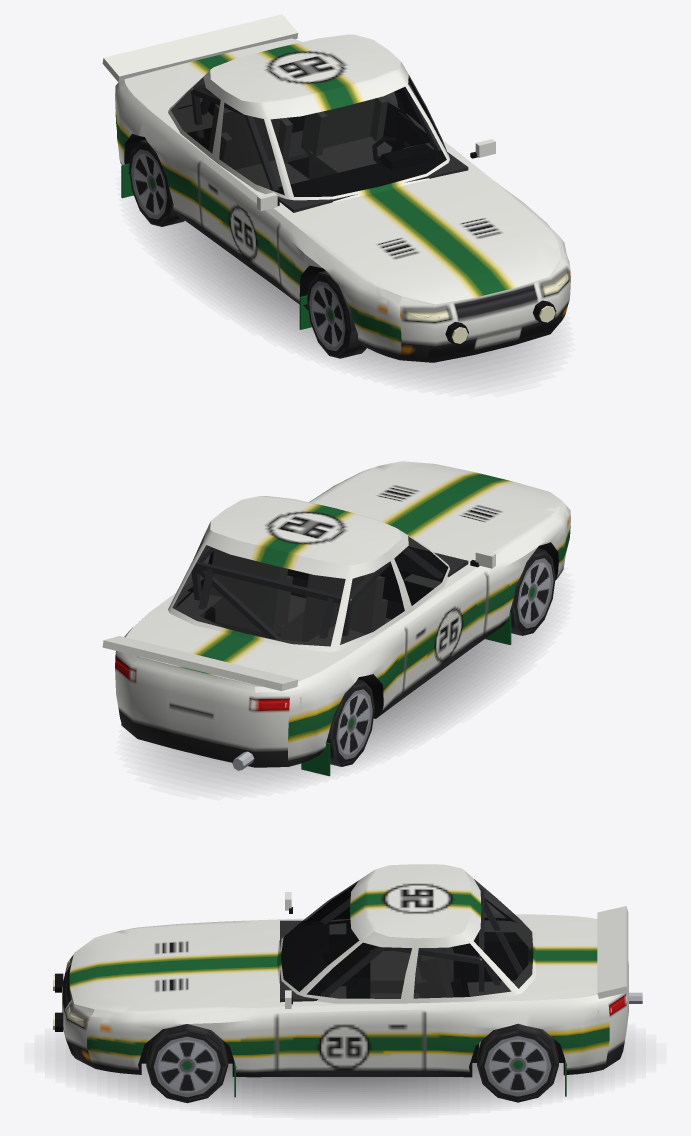
The model's file is braseiro.glb.
3 renders of one model, top to bottom at view 1: azimuth 30°, elevation 25°; view 2: azimuth 150°, elevation 25°; view 3: azimuth 270°, elevation 25°, orthographic. The views are drawn at different scales.
Visible parts, largest first — view 1: Carroceria, Capo_malha, Interior, Porta_D_malha, Sombra, Tampa_malha, Roda_DD, Roda_TD, Porta_E_malha; view 2: Carroceria, Interior, Capo_malha, Sombra, Porta_D_malha, Tampa_malha, Roda_TD, Roda_DD; view 3: Carroceria, Porta_E_malha, Capo_malha, Interior, Sombra, Tampa_malha, Roda_DE, Roda_TE, Porta_D_malha.
Boxes of the visible parts, box(x1,y1,x2,y2) form: Carroceria: box(115, 34, 570, 362); Capo_malha: box(300, 178, 566, 304); Interior: box(179, 83, 468, 212); Porta_D_malha: box(198, 87, 289, 283); Sombra: box(147, 219, 545, 381); Tampa_malha: box(102, 14, 301, 99); Roda_DD: box(307, 271, 366, 358); Roda_TD: box(128, 139, 184, 226); Porta_E_malha: box(398, 62, 495, 160); Carroceria: box(115, 464, 570, 776); Interior: box(177, 546, 468, 641); Capo_malha: box(315, 461, 566, 556); Sombra: box(145, 622, 543, 784); Porta_D_malha: box(384, 530, 495, 690); Tampa_malha: box(102, 622, 324, 692); Roda_TD: box(326, 679, 374, 766); Roda_DD: box(510, 548, 555, 635); Carroceria: box(53, 864, 642, 1097); Porta_E_malha: box(277, 931, 424, 1069); Capo_malha: box(75, 922, 260, 1017); Interior: box(149, 888, 527, 1047); Sombra: box(65, 1042, 625, 1110); Tampa_malha: box(551, 906, 628, 1002); Roda_DE: box(146, 1024, 228, 1103); Roda_TE: box(477, 1023, 558, 1102); Porta_D_malha: box(285, 884, 355, 923).
Bounding box in the file's own units: 2.36 × 1.28 × 4.85.
Materials: 14 (5 with a texture image).
